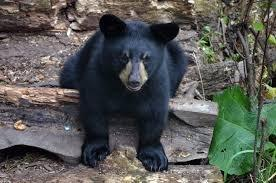bear: (59, 12, 188, 172)
